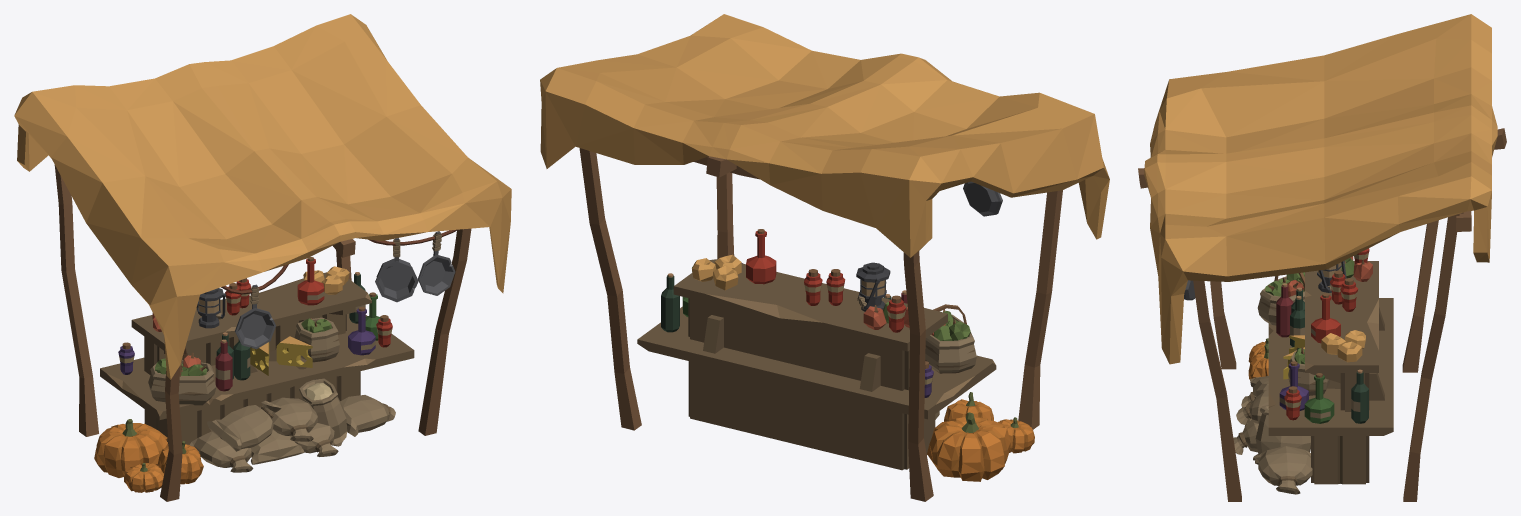
Rendered from stall_a.glb.
3 views of the same model, side by side, from view 1: azimuth 30°, elevation 25°; view 2: azimuth 150°, elevation 25°; view 3: azimuth 270°, elevation 25° (orthographic). The views are drawn at different scales.
Parts seen in each view (by area): view 1: SM_Bld_Stall_01; view 2: SM_Bld_Stall_01; view 3: SM_Bld_Stall_01.
Part boxes in pixels (x1=…): SM_Bld_Stall_01: x1=14, y1=14, x2=511, y2=501; SM_Bld_Stall_01: x1=540, y1=14, x2=1109, y2=501; SM_Bld_Stall_01: x1=1138, y1=14, x2=1506, y2=501.
Size of the model in its own units: 354 by 311 by 299.
Materials: 1 (1 with a texture image).
